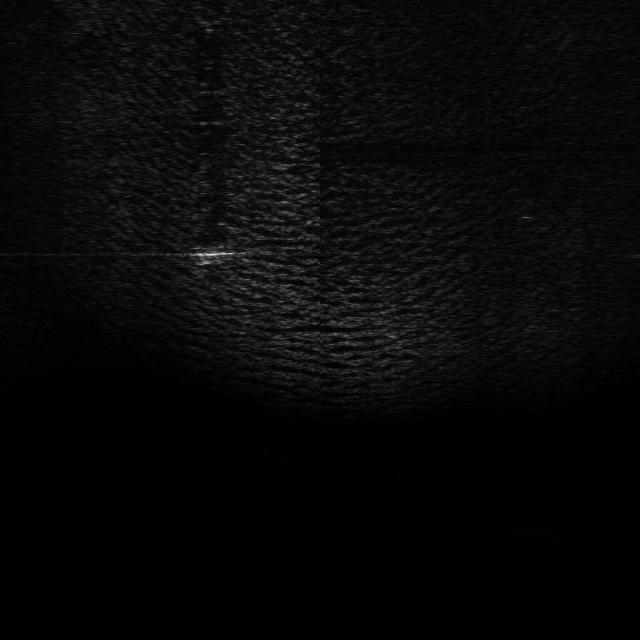cube: (193, 241, 233, 265)
